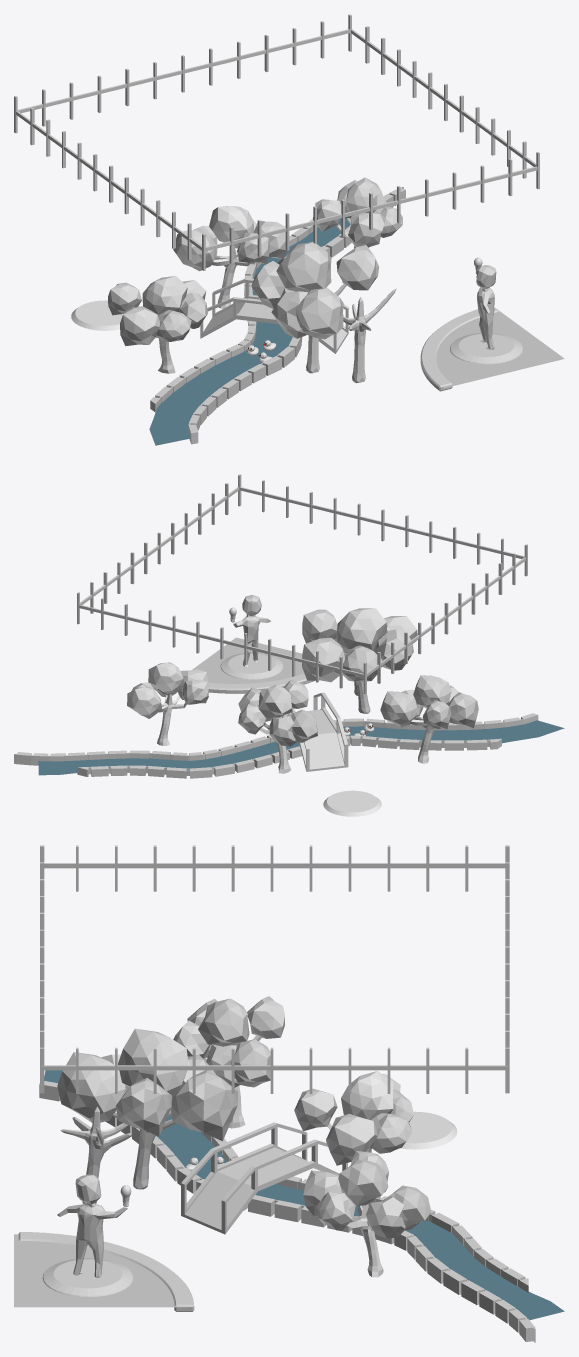
Rendered from LowPolyScene.fbx.
3 renders of one model, top to bottom at view 1: azimuth 30°, elevation 25°; view 2: azimuth 150°, elevation 25°; view 3: azimuth 270°, elevation 25°, orthographic. The views are drawn at different scales.
Parts seen in each view (by area): view 1: Plane.004, Plane, Plane.003, Cube.005, Plane.002, Icosphere.004, Cube.006, Icosphere.005, Circle, Cube, Icosphere.011, Icosphere.026 (+17 smaller); view 2: Plane.004, Plane, Cube.006, Cube.005, Plane.002, Plane.003, Icosphere.004, Icosphere.010, Cylinder, Circle, Cube.004, Icosphere.027 (+18 smaller); view 3: Plane.004, Plane.002, Cube.005, Plane, Plane.003, Icosphere.010, Icosphere.005, Icosphere.004, Circle, Cube.004, Cube.006, Icosphere.011 (+19 smaller).
Part boxes in pixels (x1=…): Plane.004: x1=14, y1=14, x2=539, y2=270; Plane: x1=149, y1=218, x2=350, y2=445; Plane.003: x1=436, y1=308, x2=564, y2=388; Cube.005: x1=188, y1=186, x2=405, y2=444; Plane.002: x1=200, y1=278, x2=348, y2=353; Icosphere.004: x1=276, y1=242, x2=331, y2=291; Cube.006: x1=150, y1=218, x2=317, y2=412; Icosphere.005: x1=295, y1=288, x2=343, y2=339; Circle: x1=450, y1=333, x2=523, y2=364; Cube: x1=420, y1=308, x2=498, y2=391; Icosphere.011: x1=336, y1=245, x2=378, y2=290; Icosphere.026: x1=142, y1=276, x2=187, y2=316; Plane.004: x1=77, y1=474, x2=527, y2=694; Plane: x1=38, y1=720, x2=564, y2=775; Cube.006: x1=77, y1=735, x2=501, y2=778; Cube.005: x1=14, y1=713, x2=538, y2=765; Plane.002: x1=282, y1=692, x2=348, y2=771; Plane.003: x1=192, y1=637, x2=304, y2=683; Icosphere.004: x1=336, y1=608, x2=387, y2=652; Icosphere.010: x1=302, y1=637, x2=345, y2=682; Cylinder: x1=323, y1=790, x2=381, y2=816; Circle: x1=220, y1=652, x2=283, y2=679; Cube.004: x1=233, y1=595, x2=271, y2=667; Icosphere.027: x1=380, y1=691, x2=416, y2=727; Plane.004: x1=40, y1=845, x2=509, y2=1093; Plane.002: x1=181, y1=1122, x2=347, y2=1234; Cube.005: x1=39, y1=1081, x2=535, y2=1342; Plane: x1=44, y1=1070, x2=564, y2=1320; Plane.003: x1=14, y1=1234, x2=186, y2=1307; Icosphere.010: x1=170, y1=1070, x2=238, y2=1141; Icosphere.005: x1=57, y1=1052, x2=125, y2=1122; Icosphere.004: x1=118, y1=1028, x2=188, y2=1099; Circle: x1=42, y1=1258, x2=133, y2=1297; Cube.004: x1=57, y1=1174, x2=127, y2=1277; Cube.006: x1=201, y1=1132, x2=528, y2=1292; Icosphere.011: x1=116, y1=1078, x2=171, y2=1136.
Size of what is drawn, in the model's own units: 3754 by 1668 by 3248.
